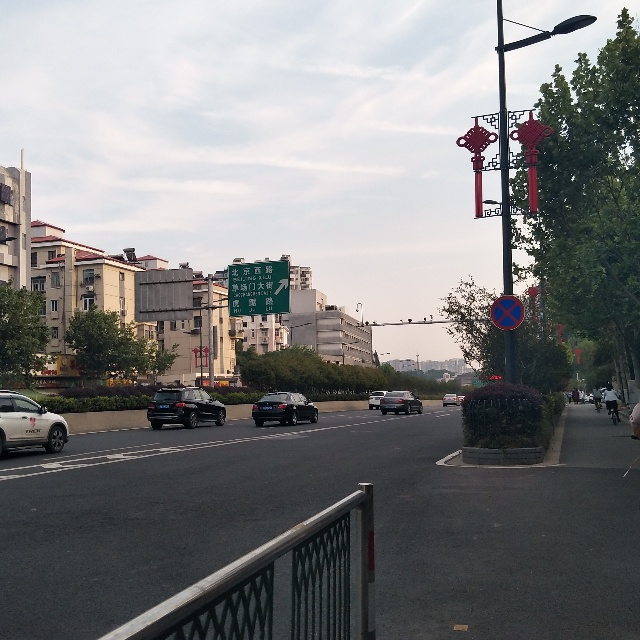stop: (489, 293, 526, 336)
